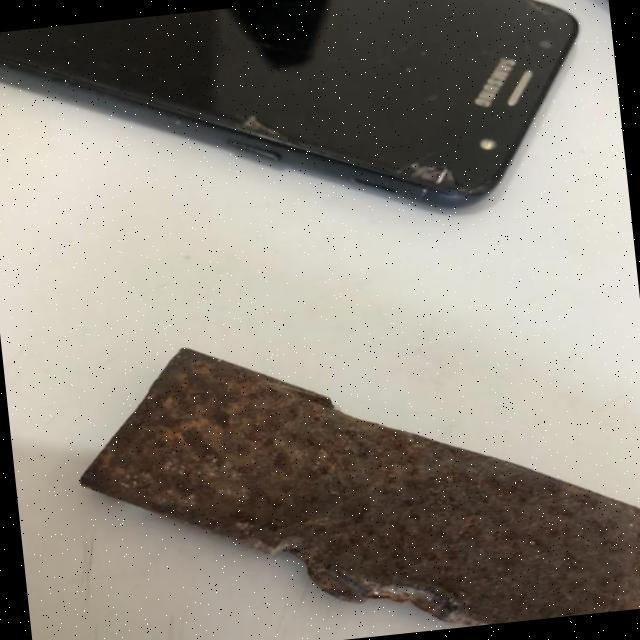Corrosion: (65, 296, 640, 640)
